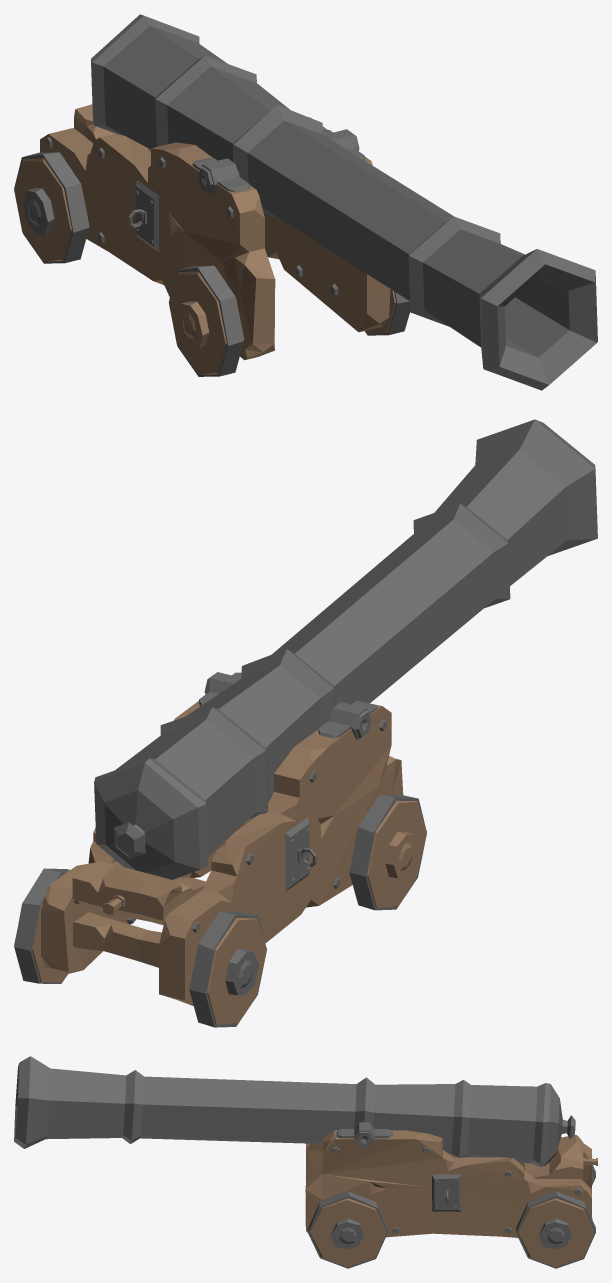
File: Cannon.fbx
The picture shows the model from 3 angles, top to bottom: view 1: azimuth 30°, elevation 25°; view 2: azimuth 150°, elevation 25°; view 3: azimuth 270°, elevation 25°; orthographic projection. The views are drawn at different scales.
Visible parts, largest first — view 1: Cannon; view 2: Cannon; view 3: Cannon.
Boxes of the visible parts, x1,y1,x2,y2 form: Cannon: (14, 14, 597, 390); Cannon: (14, 419, 597, 1027); Cannon: (14, 1056, 597, 1268).
Size of the model in its own units: 1.75 by 2.24 by 6.39.
